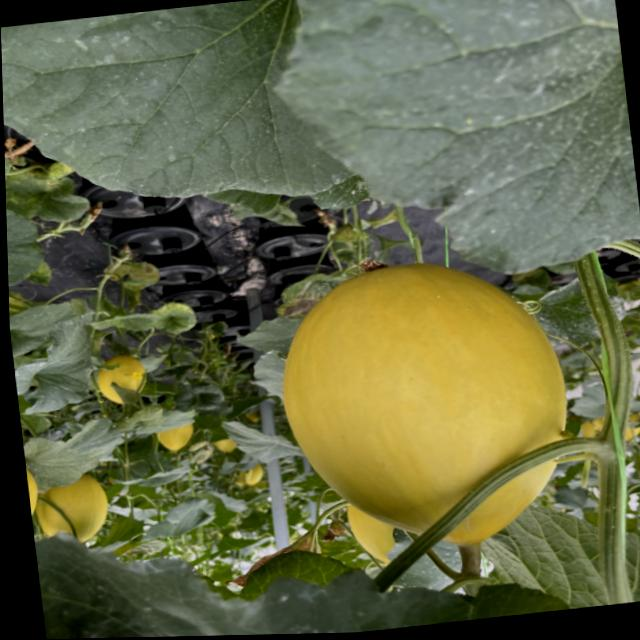downy mildew: (262, 0, 640, 297), (0, 0, 372, 242)
